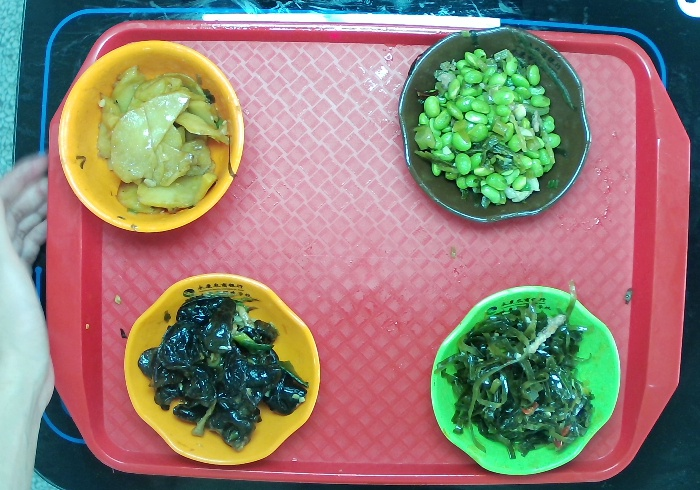YKMZ-Ju_Se_Ao_Bian_Wan: (122, 261, 328, 475)
YKMZ-Ju_Se_Yuan_Wan: (46, 32, 252, 246)
YKMZ-Ka_Fei_Ao_Bian_Wan: (392, 19, 598, 233)
YKMZ-Lv_Se_Ao_Bian_Wan: (422, 276, 628, 490)
